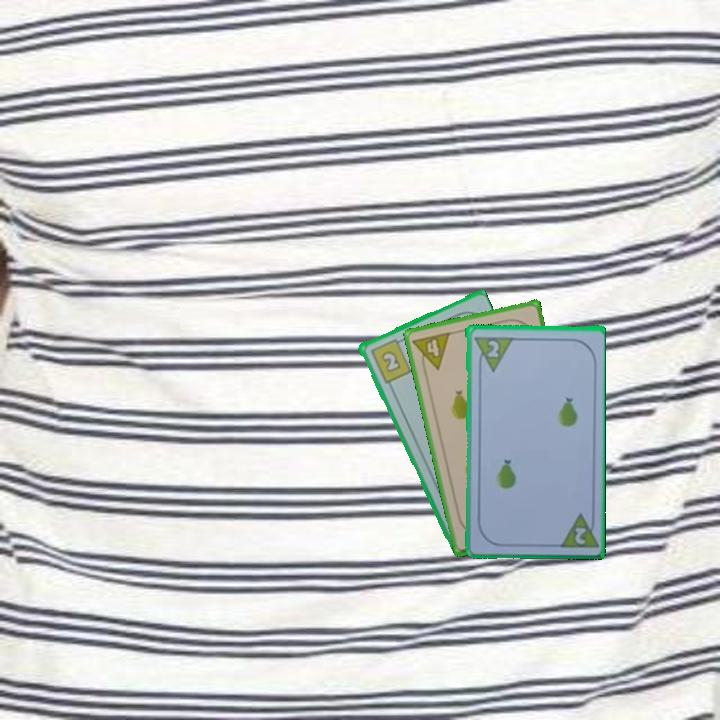2b: (367, 335, 414, 386)
2p: (470, 333, 514, 374), (571, 524, 589, 547)
4p: (409, 328, 453, 375)
